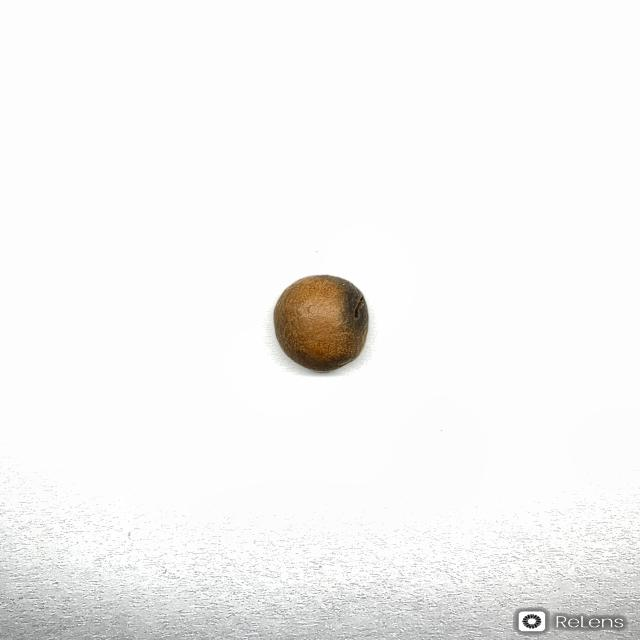Scorched: (270, 273, 371, 373)
